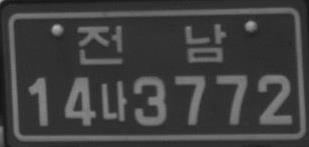1: (24, 76, 56, 127)
2: (257, 73, 293, 125)
3: (132, 74, 168, 127)
4: (63, 75, 97, 127)
7: (214, 73, 249, 126), (173, 74, 207, 126)
나: (99, 80, 128, 122)
전남_D: (76, 23, 227, 65)
